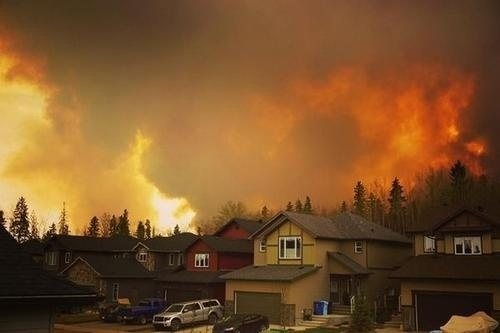fire: (332, 67, 490, 191), (147, 187, 199, 235)
